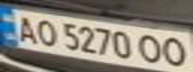0: (112, 28, 136, 61)
2: (75, 24, 96, 55)
5: (57, 20, 81, 52)
7: (93, 25, 115, 57)
A: (9, 12, 42, 44)
O: (157, 34, 193, 69), (136, 32, 166, 65), (30, 17, 60, 47)
